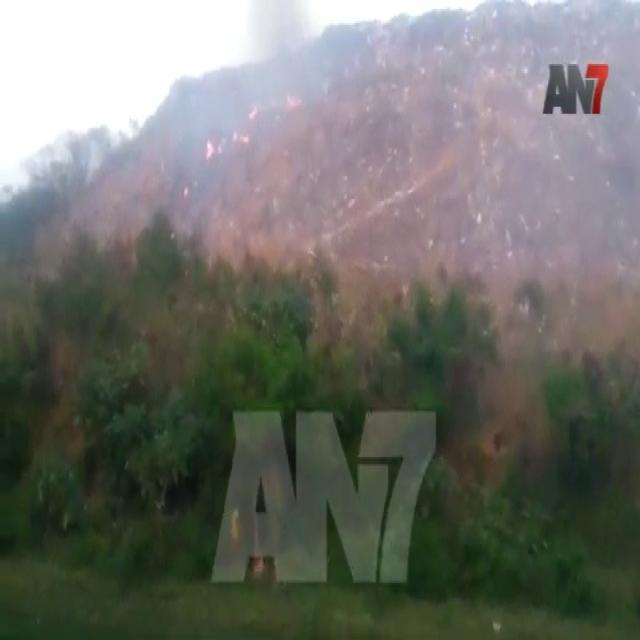Fire: (232, 122, 250, 154), (284, 85, 297, 110), (203, 138, 214, 156), (250, 102, 260, 120), (179, 176, 187, 197)
Smoke: (246, 0, 331, 71)
